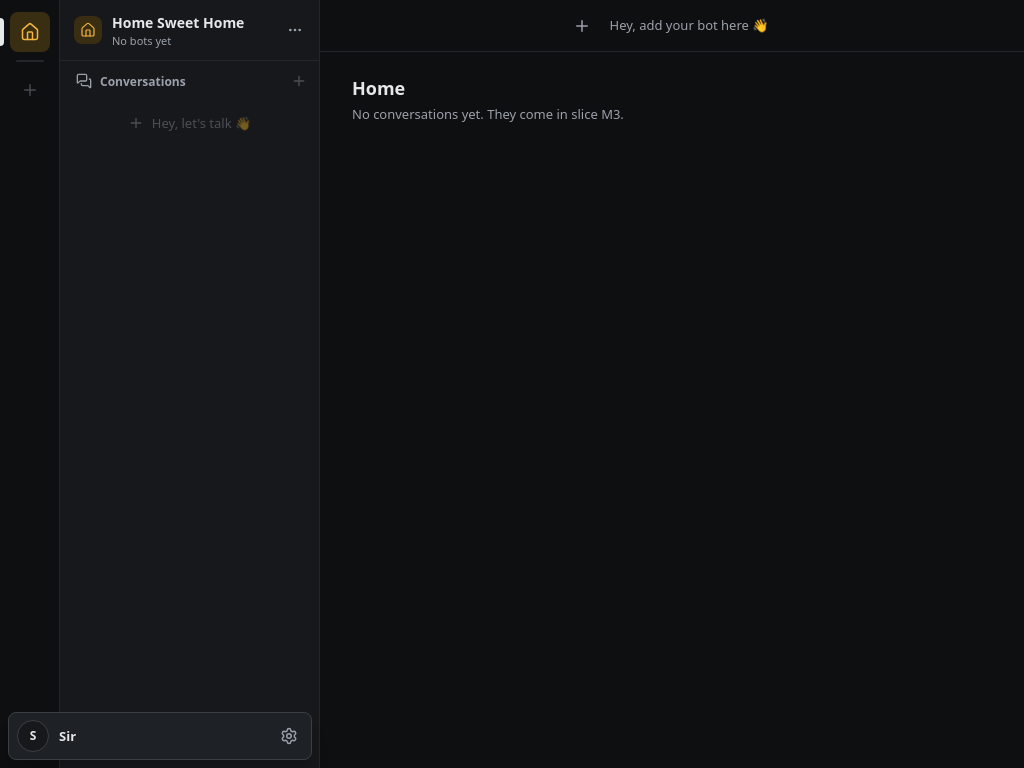
user panel menu › opens with a click and lists only the pages that exist
The image size is (1024, 768).
Click the button "S Sir": {"x": 140, "y": 736} [13,716,267,756]
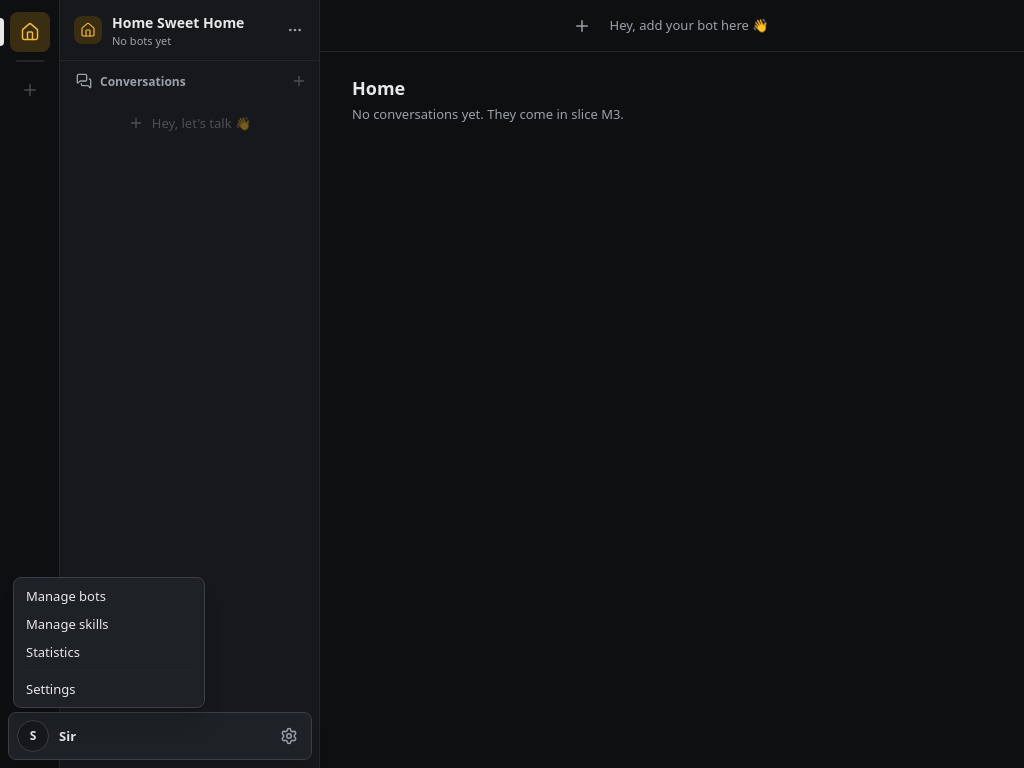
Expected: the menu items read "Manage bots", "Manage skills", "Statistics", "Settings", in this order, [26,587,106,605]; [26,615,109,633]; [26,643,80,661]; [26,680,76,698]
